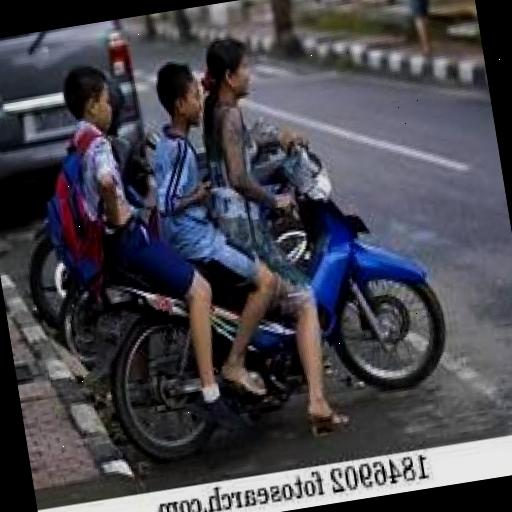no helmet: (202, 35, 278, 134)
triple riding: (22, 4, 460, 467)
